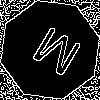M: (25, 25, 84, 86)
